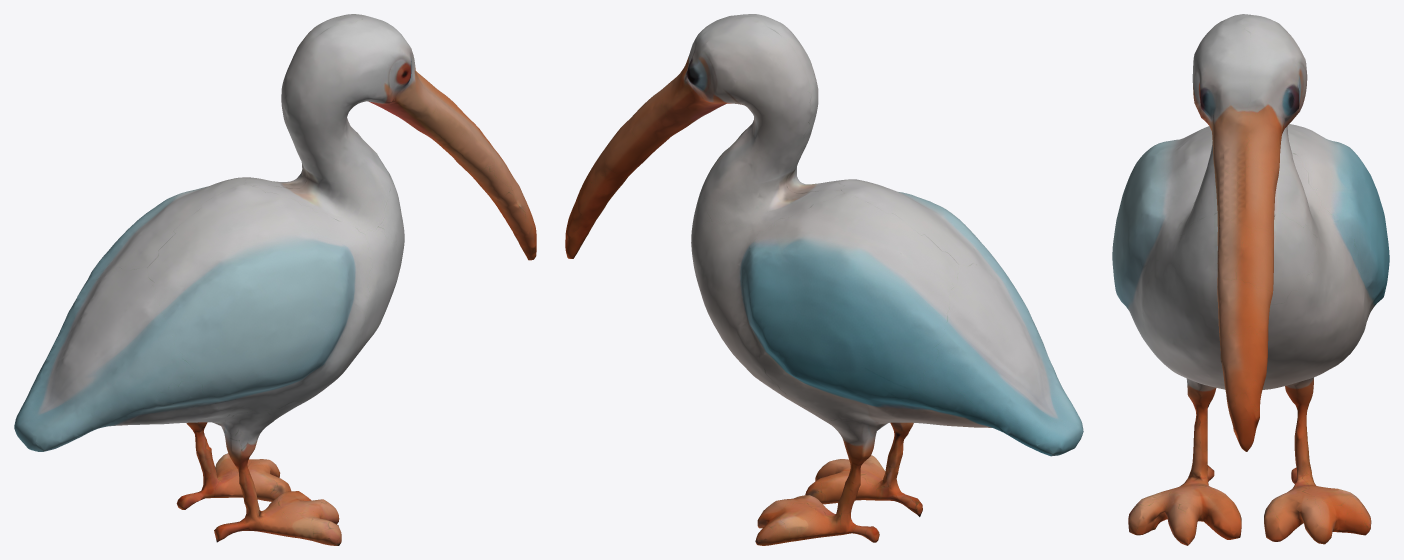
Rendered from a_cartoon_mascot_of_an_ibis_0507212633_refine.fbx.
3 renders of one model, left to right at view 1: azimuth 30°, elevation 25°; view 2: azimuth 150°, elevation 25°; view 3: azimuth 270°, elevation 25°, orthographic. The views are drawn at different scales.
Visible parts, largest first — view 1: Mesh_0; view 2: Mesh_0; view 3: Mesh_0.
Part boxes in pixels (x1=…): Mesh_0: x1=14, y1=14, x2=536, y2=545; Mesh_0: x1=565, y1=14, x2=1083, y2=545; Mesh_0: x1=1112, y1=14, x2=1389, y2=545.
Bounding box in the file's own units: 120 × 107 × 49.23.
1 material, 1 textured.
